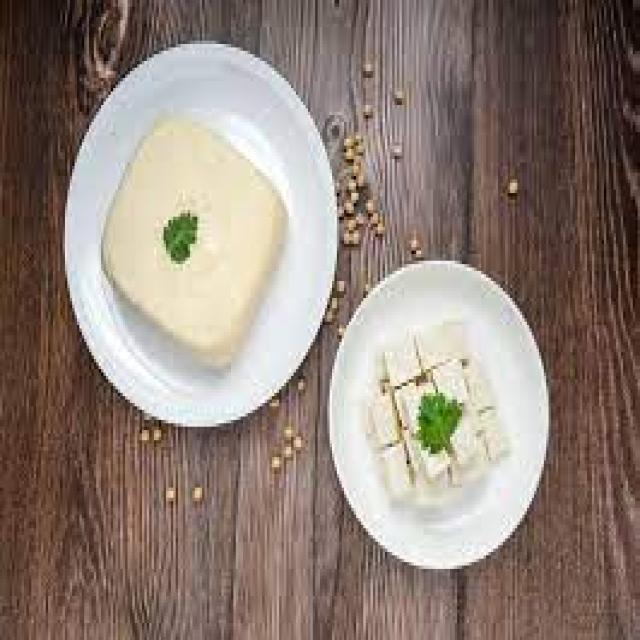tofu: (100, 106, 288, 375), (349, 309, 523, 546)
